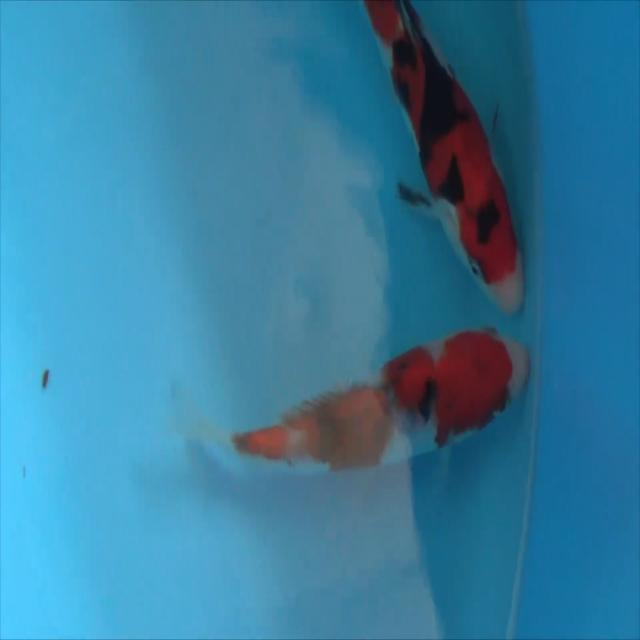Sanke: (160, 327, 536, 475), (362, 0, 525, 315)
